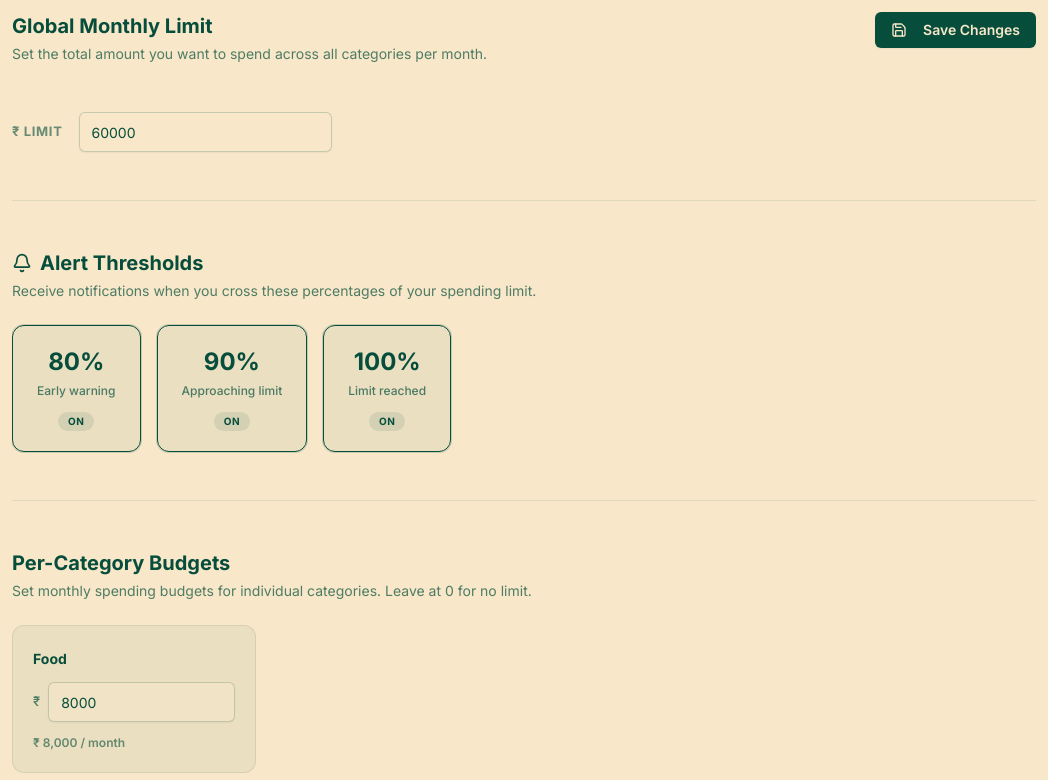
Scenario: alert thresholds › toggles a threshold off
Check: the number field labelled "₹ Limit" is shown, box [78,112,332,152]
Click the button "80% Early warning ON": (76, 388) [12,325,140,452]
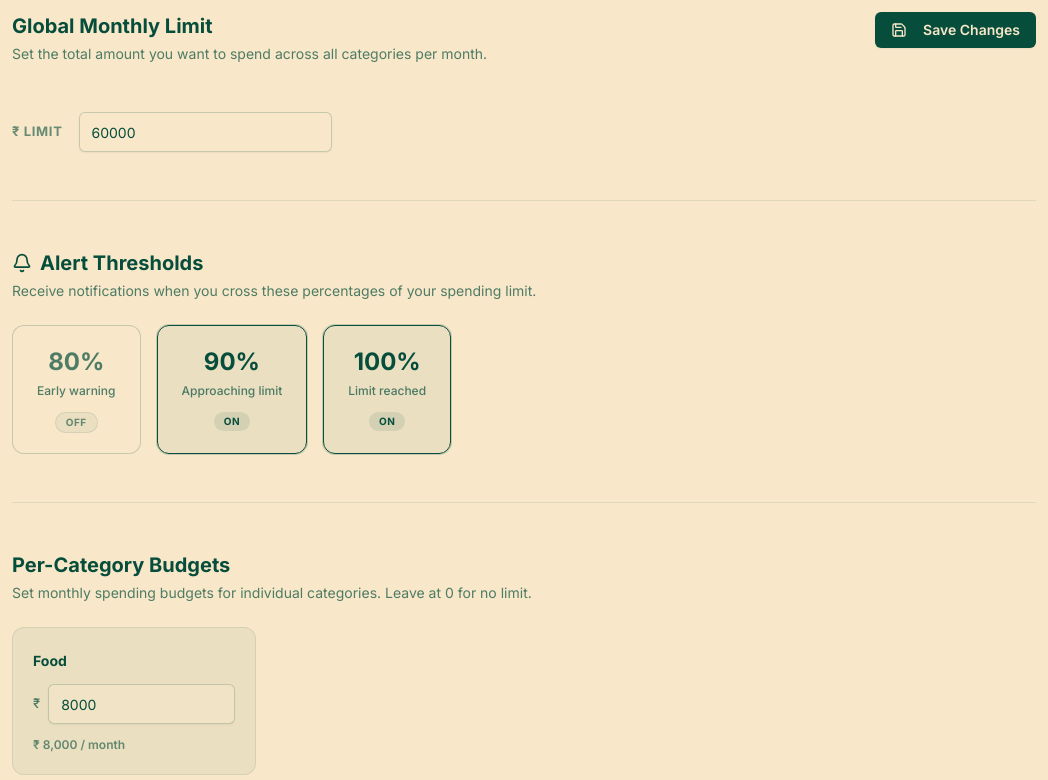
Check: the text "ON" is shown 2 times, box [214,412,250,431]; [369,412,405,431]
Check: the text "OFF" is shown, box [55,412,98,433]
